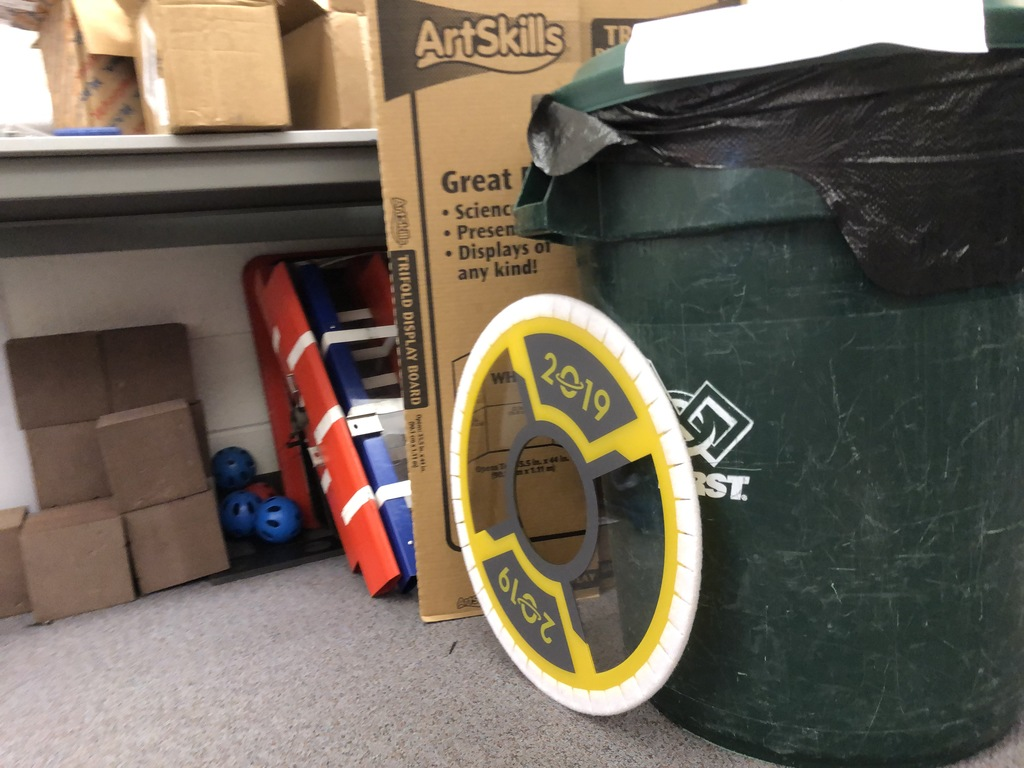hatch_panel: (446, 283, 711, 732)
